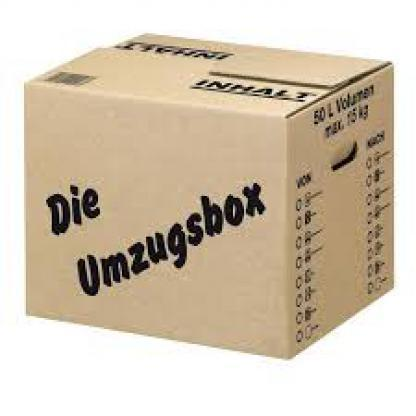box: (20, 31, 392, 357)
